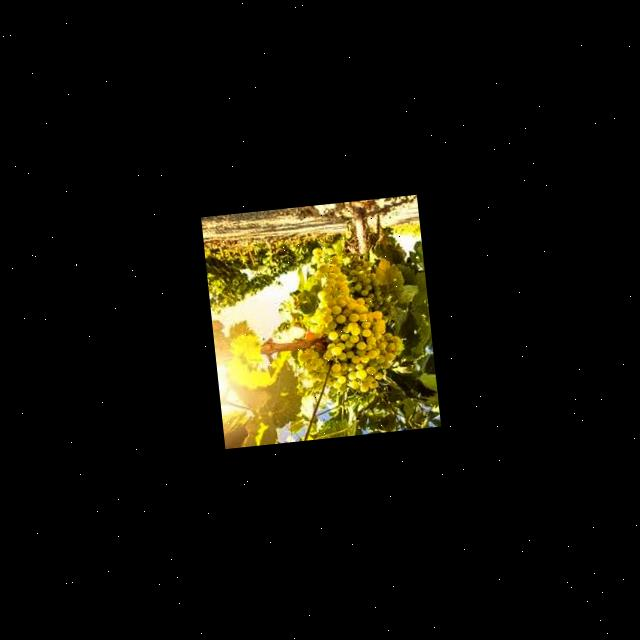grape: (281, 248, 410, 408)
